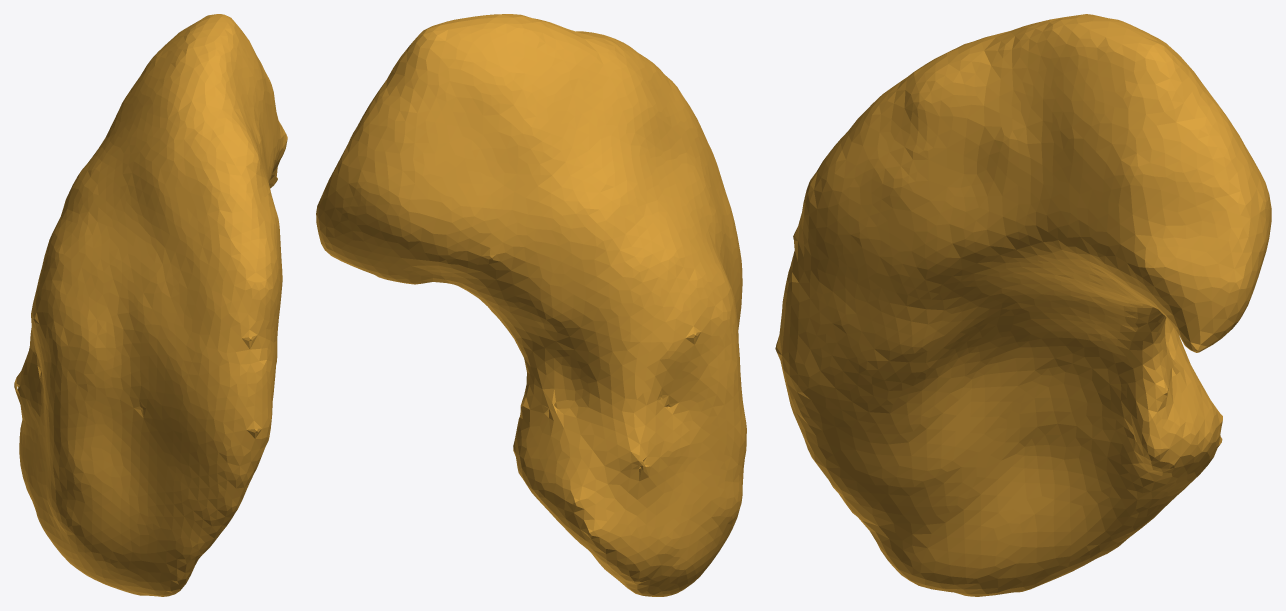
The model's file is Left_Putamen.glb.
3 renders of one model, left to right at view 1: azimuth 30°, elevation 25°; view 2: azimuth 150°, elevation 25°; view 3: azimuth 270°, elevation 25°, orthographic. The views are drawn at different scales.
Visible parts, largest first — view 1: world; view 2: world; view 3: world.
Boxes of the visible parts, x1,y1,x2,y2 form: world: (14, 14, 287, 596); world: (316, 14, 746, 596); world: (775, 14, 1271, 596).
Size of the model in its own units: 25.05 by 40.63 by 28.27.
